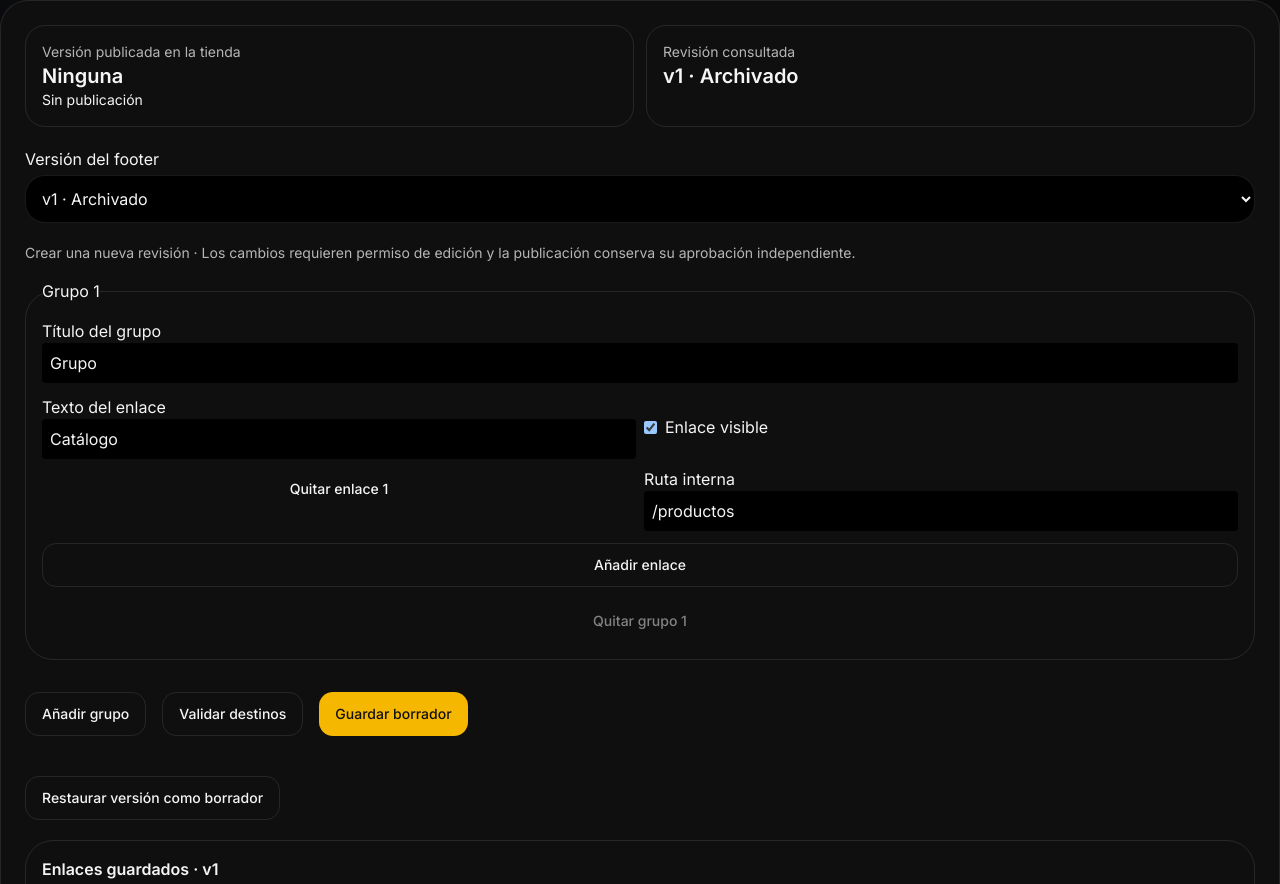
Test: restores an archived footer only after confirmation and keeps it a draft
Click the button "Restaurar versión como borrador" at [153, 798], box [25,776,280,820]
(page scrolled)
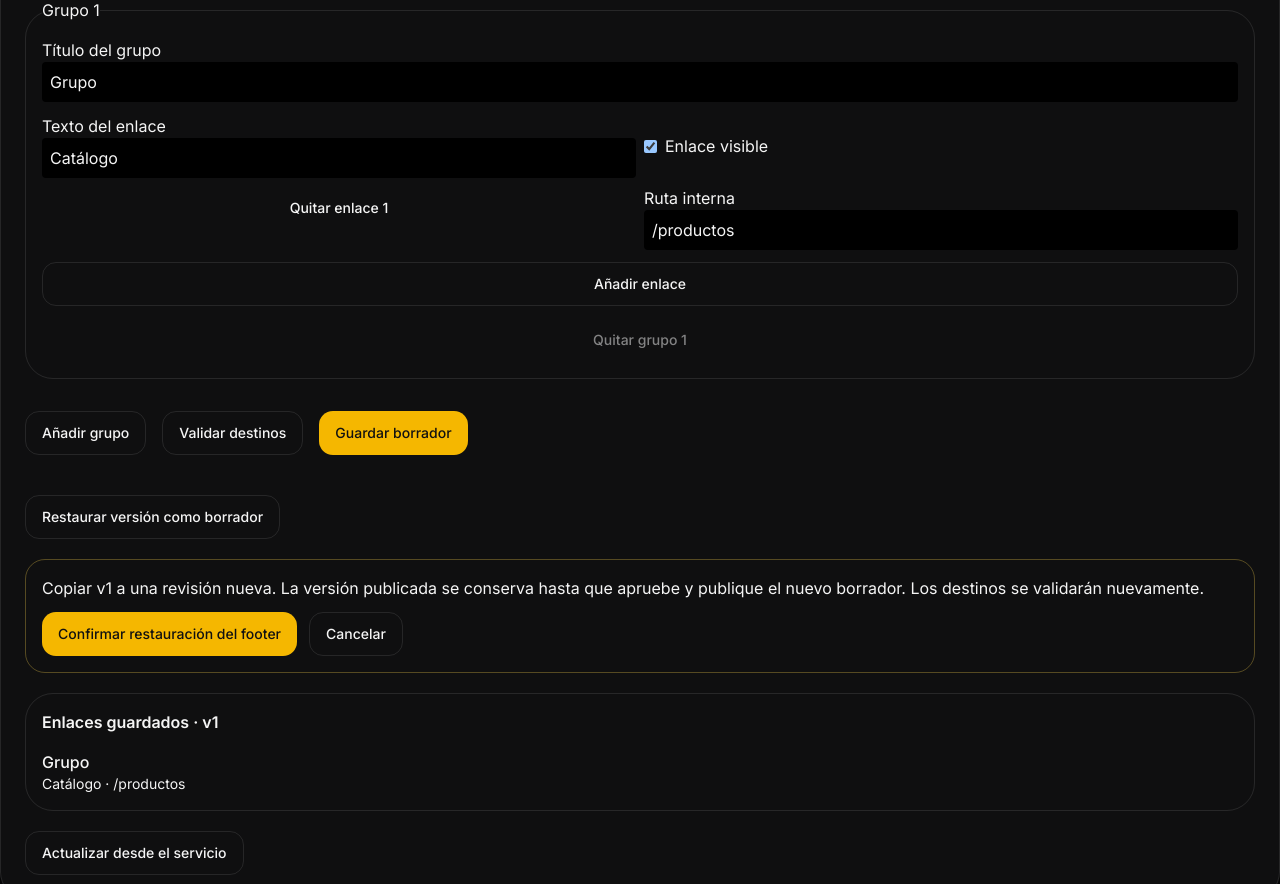
Click the button "Confirmar restauración del footer" at [170, 634], box [42,612,297,656]
(page scrolled)
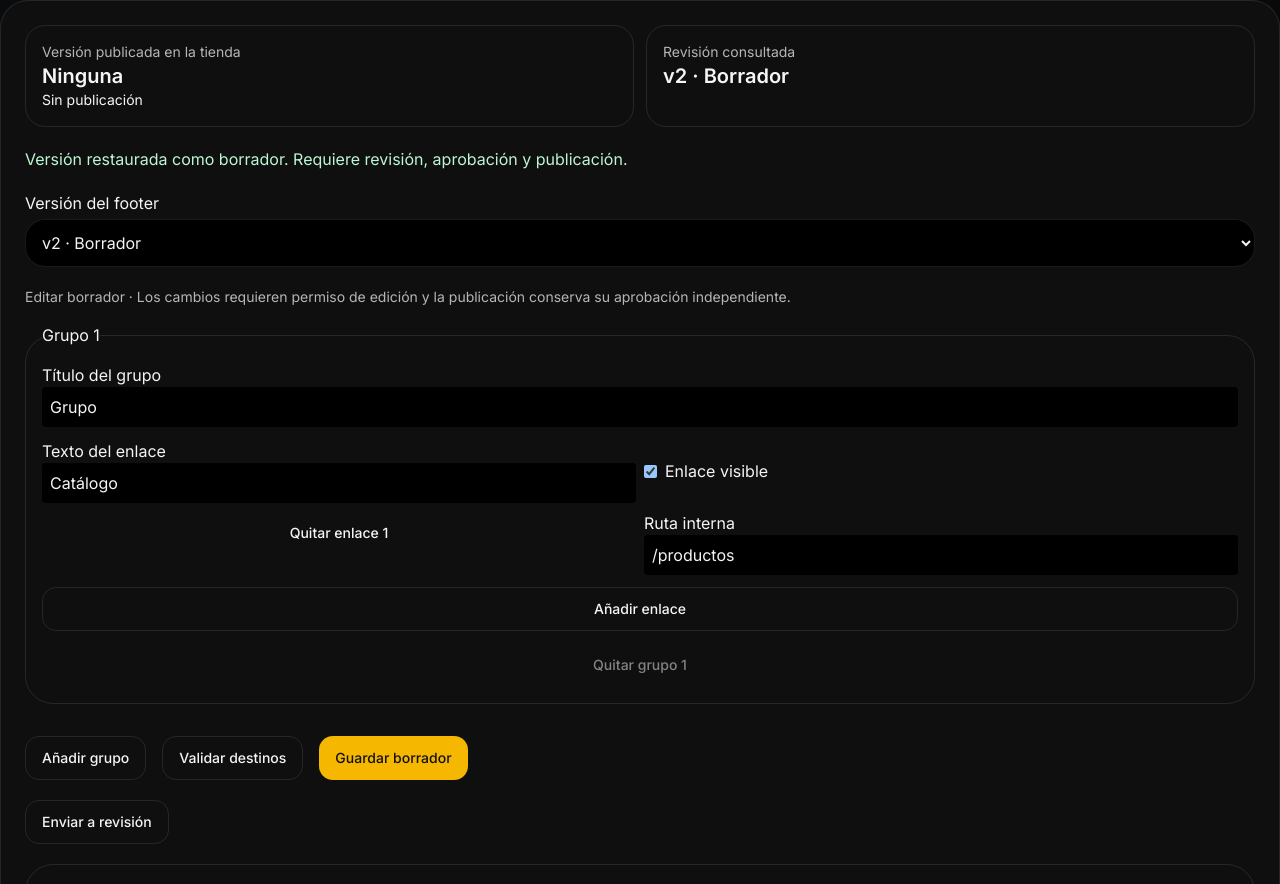
Now the text "Versión restaurada como borrador. Requiere revisión, aprobación y publicación." is shown, box [25,149,628,169]
